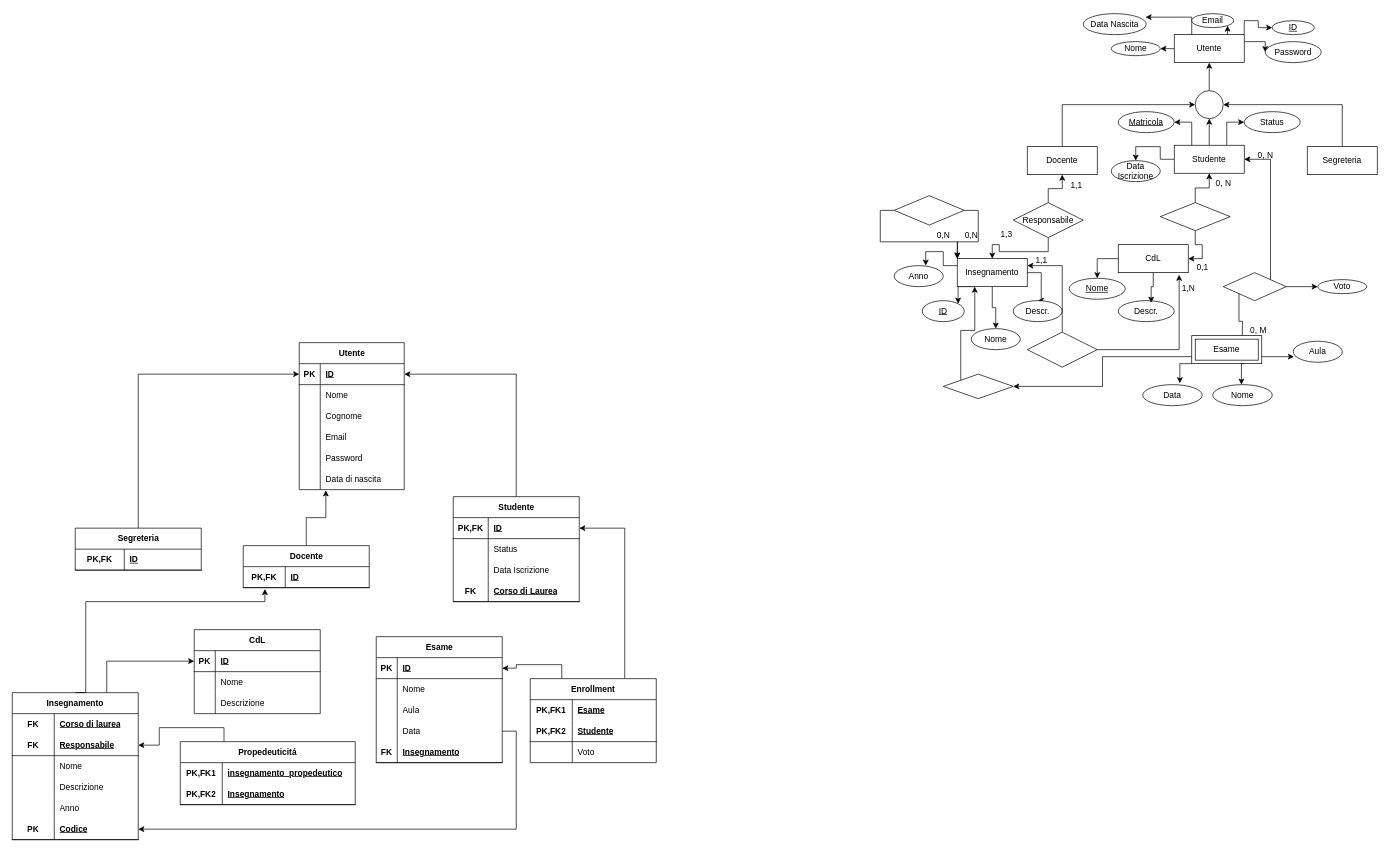
Some shapes in this 1390 by 852 pixel diagram are drawn without their labels. The centre of each missing label's shape, as x and y in pixels:
"Eroga" belongs at point (1062, 349).
"Frequenta" belongs at point (1195, 216).
"Iscritto" belongs at point (1254, 286).
"Propedeutico" belongs at point (929, 210).
"Relationship" belongs at point (978, 386).
"T,D" belongs at point (1209, 104).
